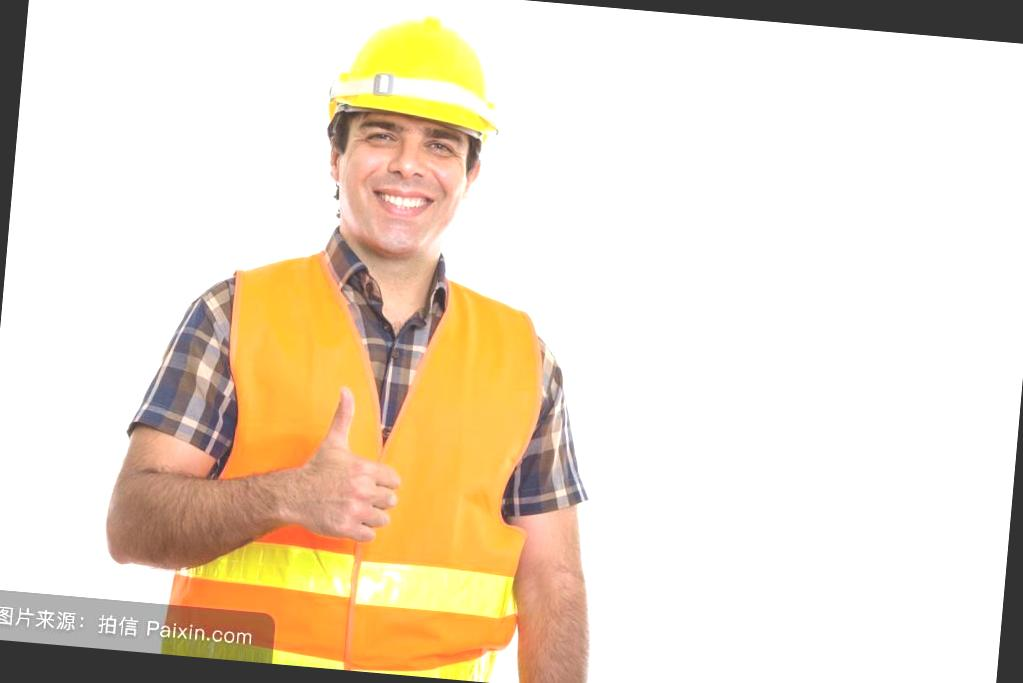helmet: (317, 12, 516, 138)
person: (95, 0, 645, 642)
